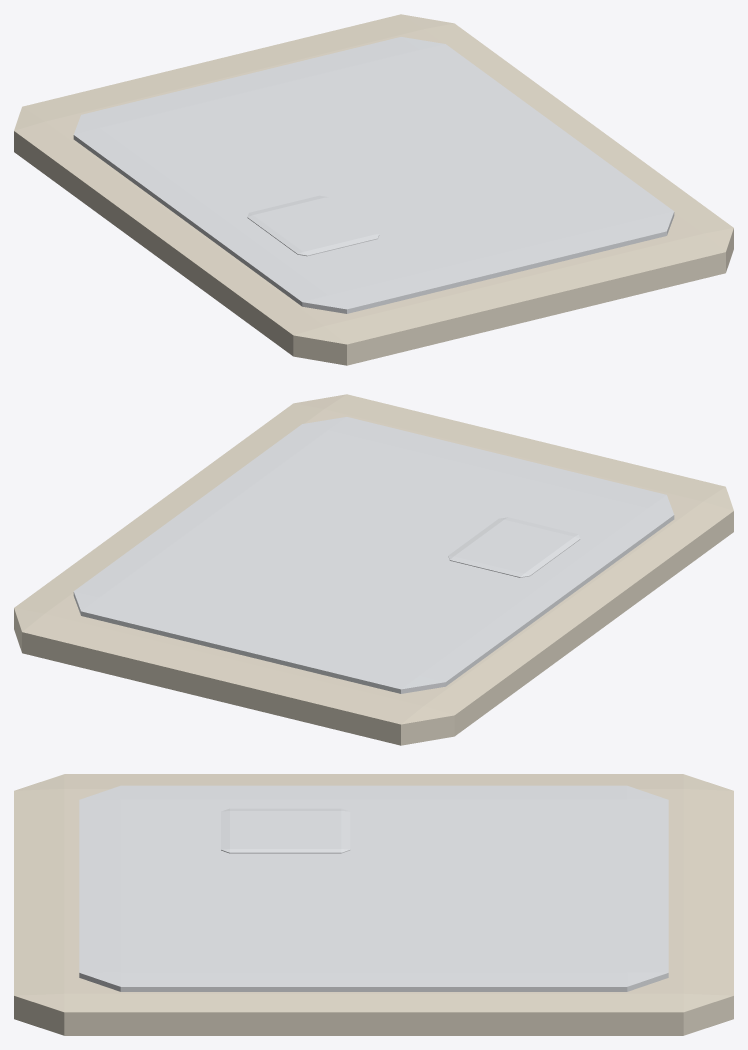
Rendered from b17_coiled_jump_rope.glb.
3 views of the same model, one above another, from view 1: azimuth 30°, elevation 25°; view 2: azimuth 150°, elevation 25°; view 3: azimuth 270°, elevation 25° (orthographic). The views are drawn at different scales.
Visible parts, largest first — view 1: b17_coiled_jump_rope; view 2: b17_coiled_jump_rope; view 3: b17_coiled_jump_rope.
Boxes of the visible parts, x1,y1,x2,y2 form: b17_coiled_jump_rope: (14, 14, 733, 365); b17_coiled_jump_rope: (14, 394, 733, 745); b17_coiled_jump_rope: (14, 774, 733, 1035).
Bounding box in the file's own units: 0.386 × 0.026 × 0.493.
